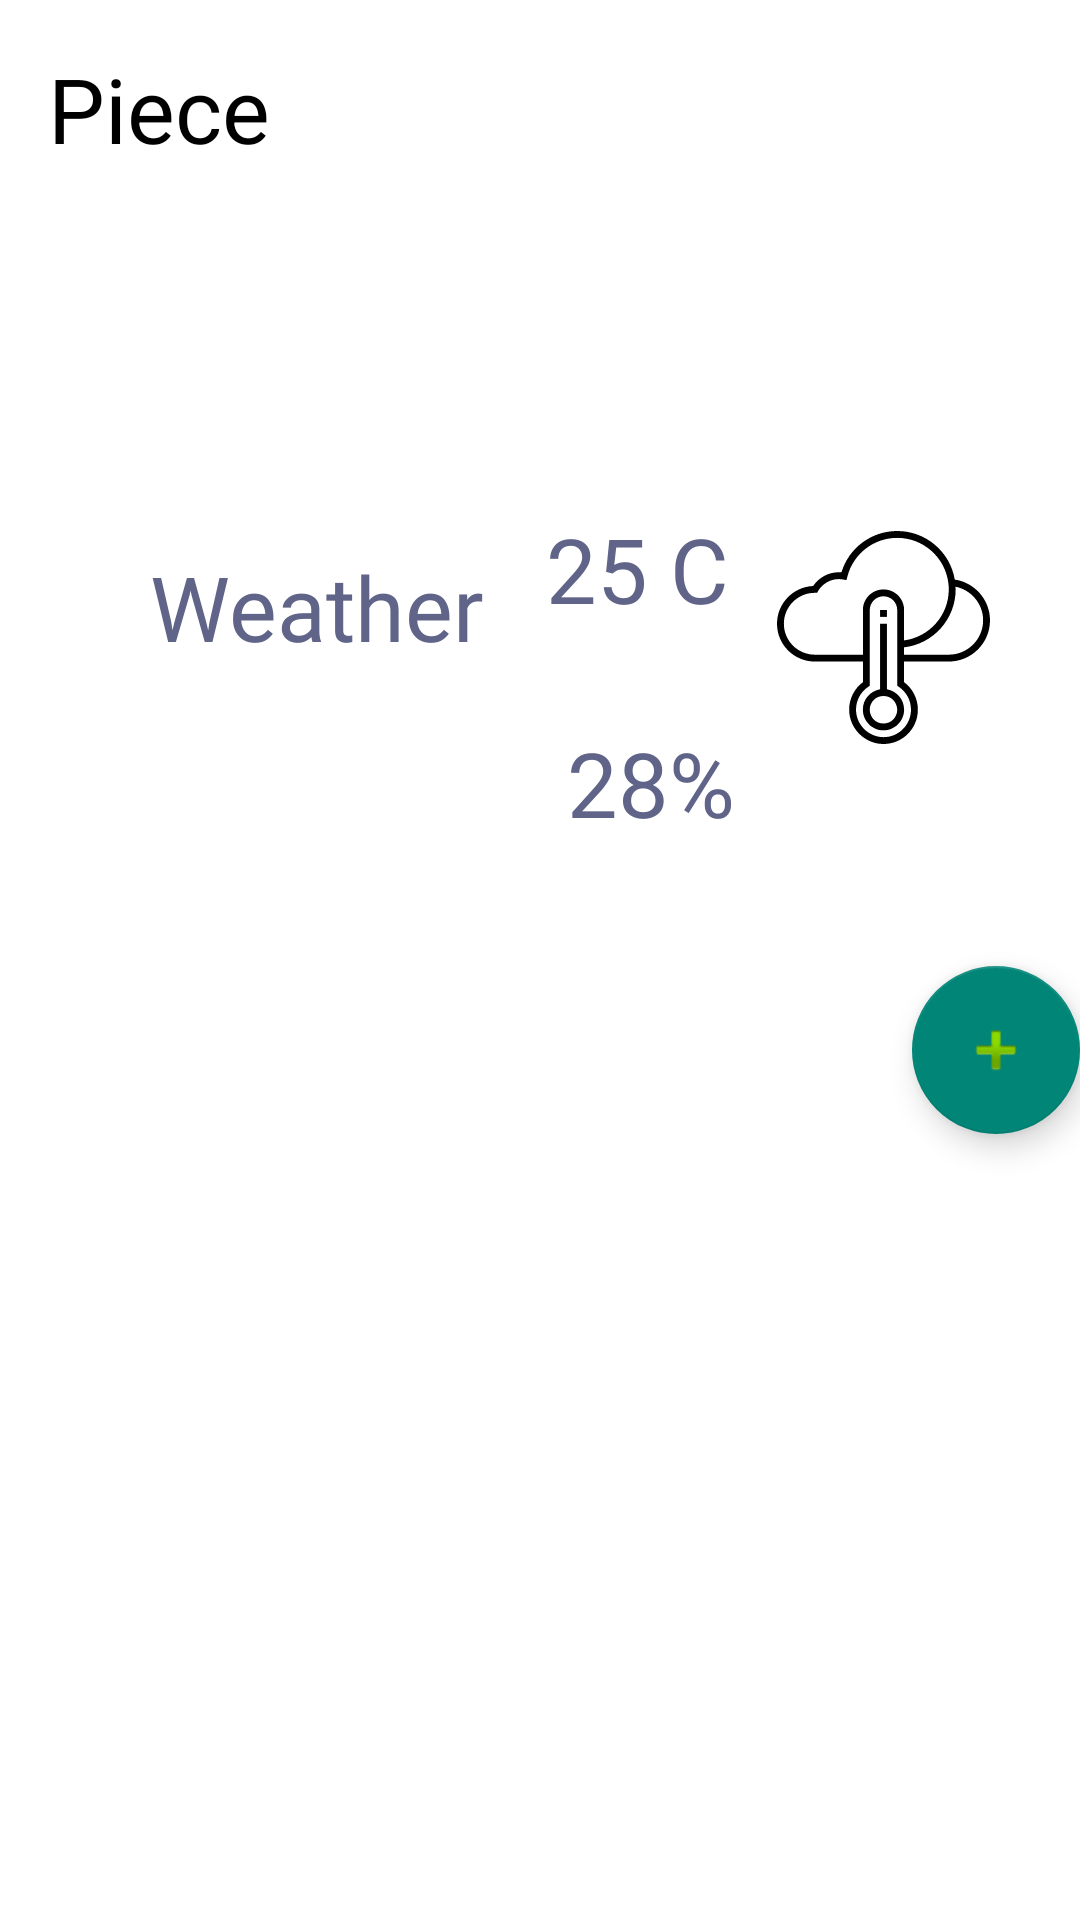

Icon click points for this 1080 x 1920 phone screenshot, format (x,y):
add: (996,1050)
